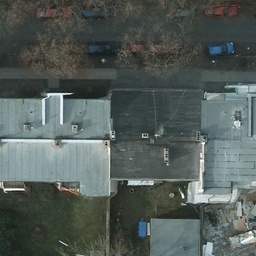car: (34, 4, 72, 21), (150, 41, 183, 57), (80, 2, 111, 19), (205, 3, 236, 20), (88, 38, 121, 52), (207, 41, 236, 55)
